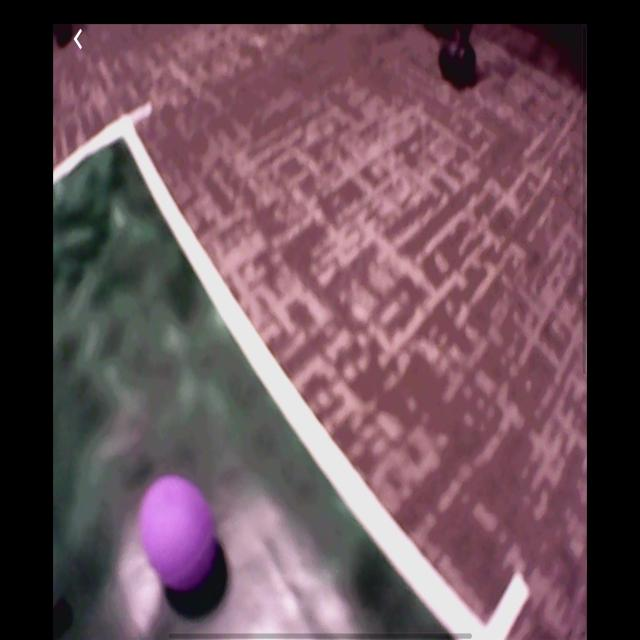ball: (138, 476, 216, 594)
